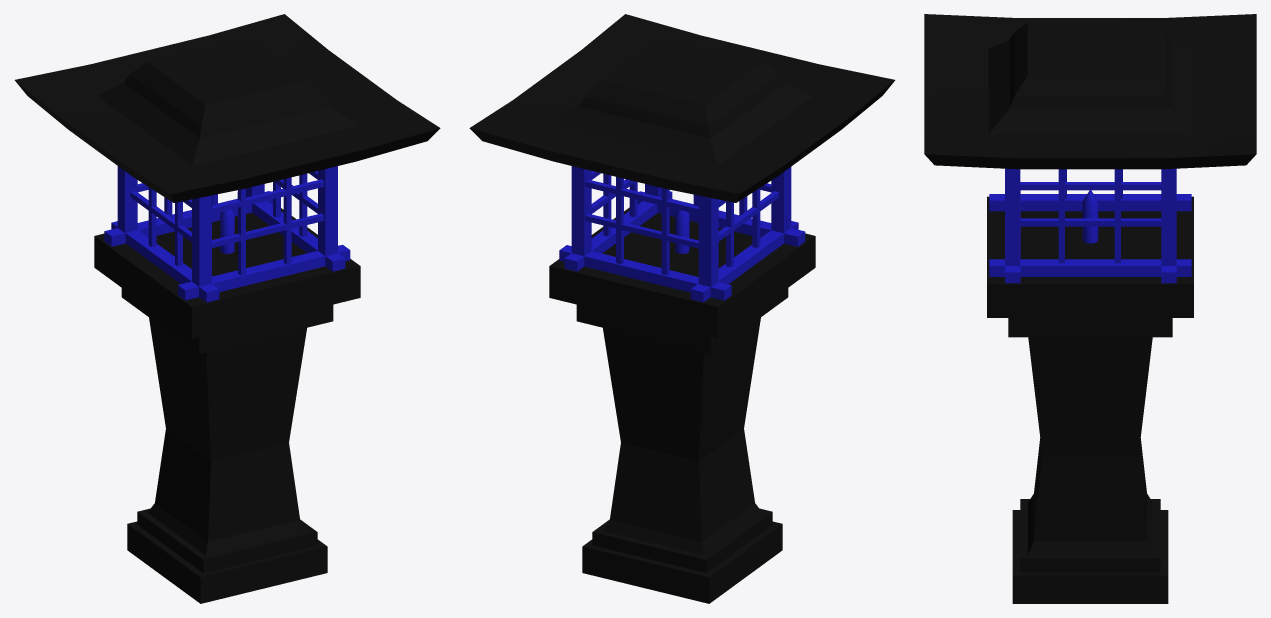
Rendered from Lampe Low.FBX.
3 views of the same model, side by side, from view 1: azimuth 30°, elevation 25°; view 2: azimuth 150°, elevation 25°; view 3: azimuth 270°, elevation 25° (orthographic). The views are drawn at different scales.
Parts seen in each view (by area): view 1: là, Object023; view 2: là, Object023; view 3: là, Object023.
Part boxes in pixels (x1,y1,x2,y2): là: [14, 14, 440, 603]; Object023: [104, 166, 350, 302]; là: [469, 14, 895, 603]; Object023: [559, 166, 805, 302]; là: [924, 14, 1256, 603]; Object023: [989, 168, 1191, 283].
Size of the model in its own units: 107 by 185 by 107.
